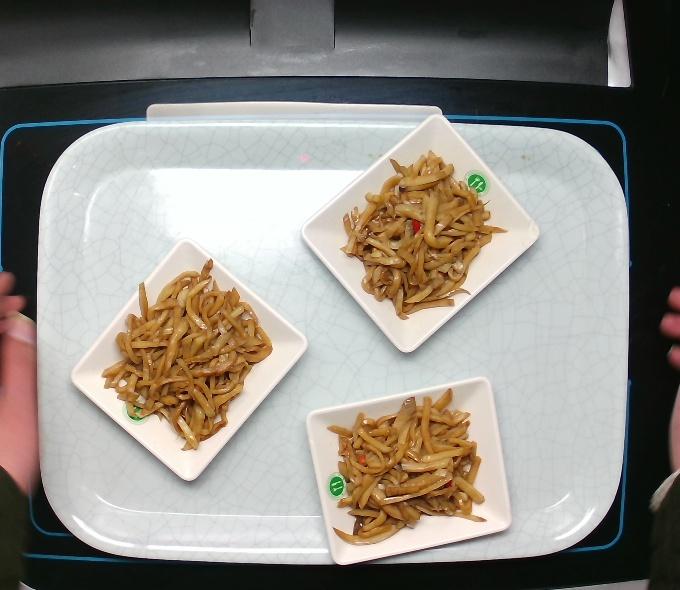wcq-LiangBanMoGu: (104, 269, 275, 444), (341, 149, 496, 317), (334, 393, 480, 542)
